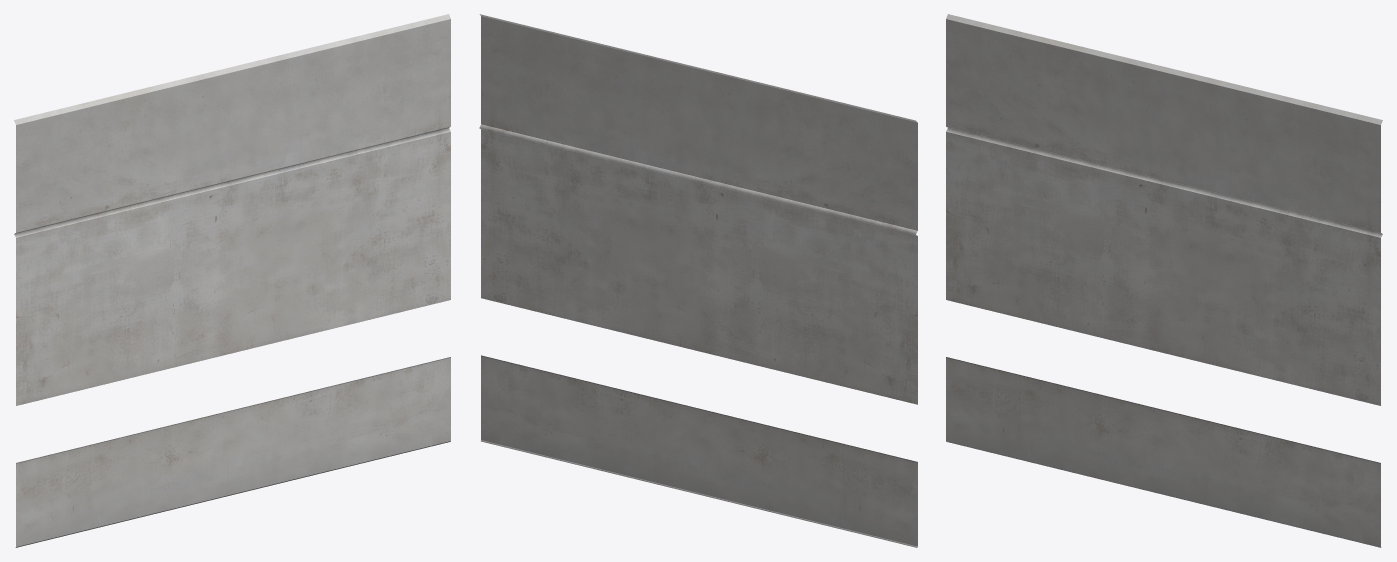
Rendered from hospital_corridor_default_color.dae.
3 views of the same model, side by side, from view 1: azimuth 30°, elevation 25°; view 2: azimuth 150°, elevation 25°; view 3: azimuth 330°, elevation 25° (orthographic).
Parts seen in each view (by area): view 1: default_color; view 2: default_color; view 3: default_color.
Part boxes in pixels (x1,y1,x2,y2): default_color: (14,14,450,547); default_color: (479,14,917,547); default_color: (946,14,1382,547).
Bounding box in the file's own units: 4 × 3.75 × 0.0312.
